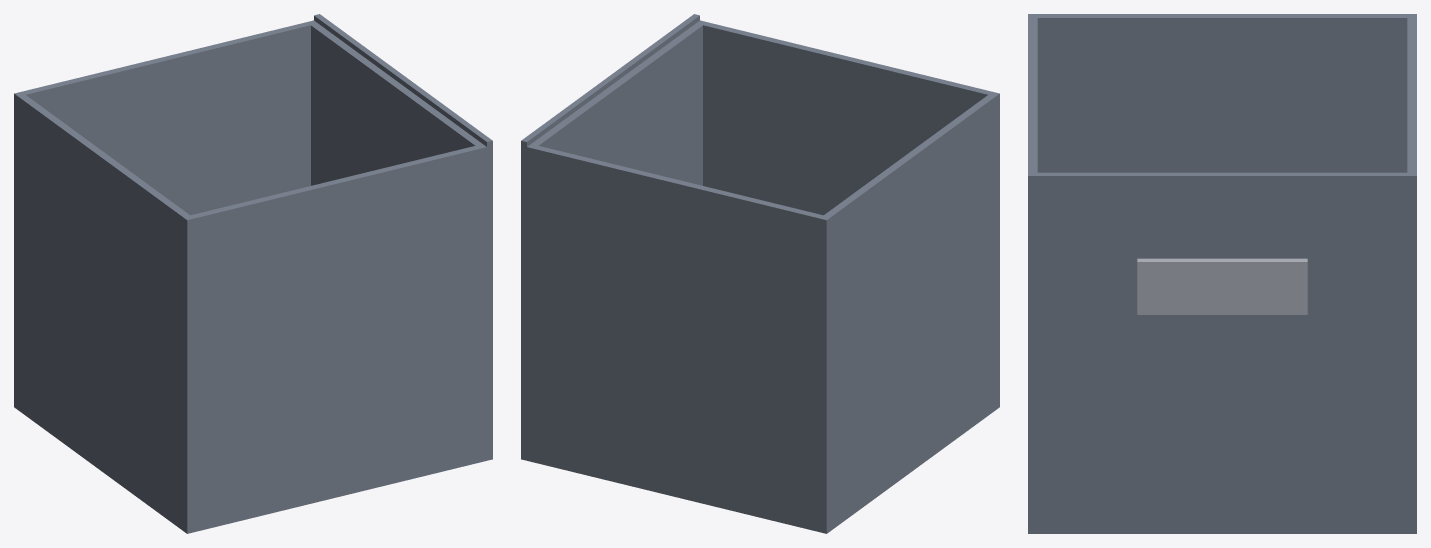
File: RangementTiroirCase.fbx
3 views of the same model, side by side, from view 1: azimuth 30°, elevation 25°; view 2: azimuth 150°, elevation 25°; view 3: azimuth 270°, elevation 25° (orthographic). The views are drawn at different scales.
Parts seen in each view (by area): view 1: RangementTiroirCase; view 2: RangementTiroirCase; view 3: RangementTiroirCase.
Boxes of the visible parts, x1,y1,x2,y2 form: RangementTiroirCase: (14,14,492,533); RangementTiroirCase: (521,14,999,533); RangementTiroirCase: (1028,14,1416,533).
Size of the model in its own units: 185 by 181 by 178.
